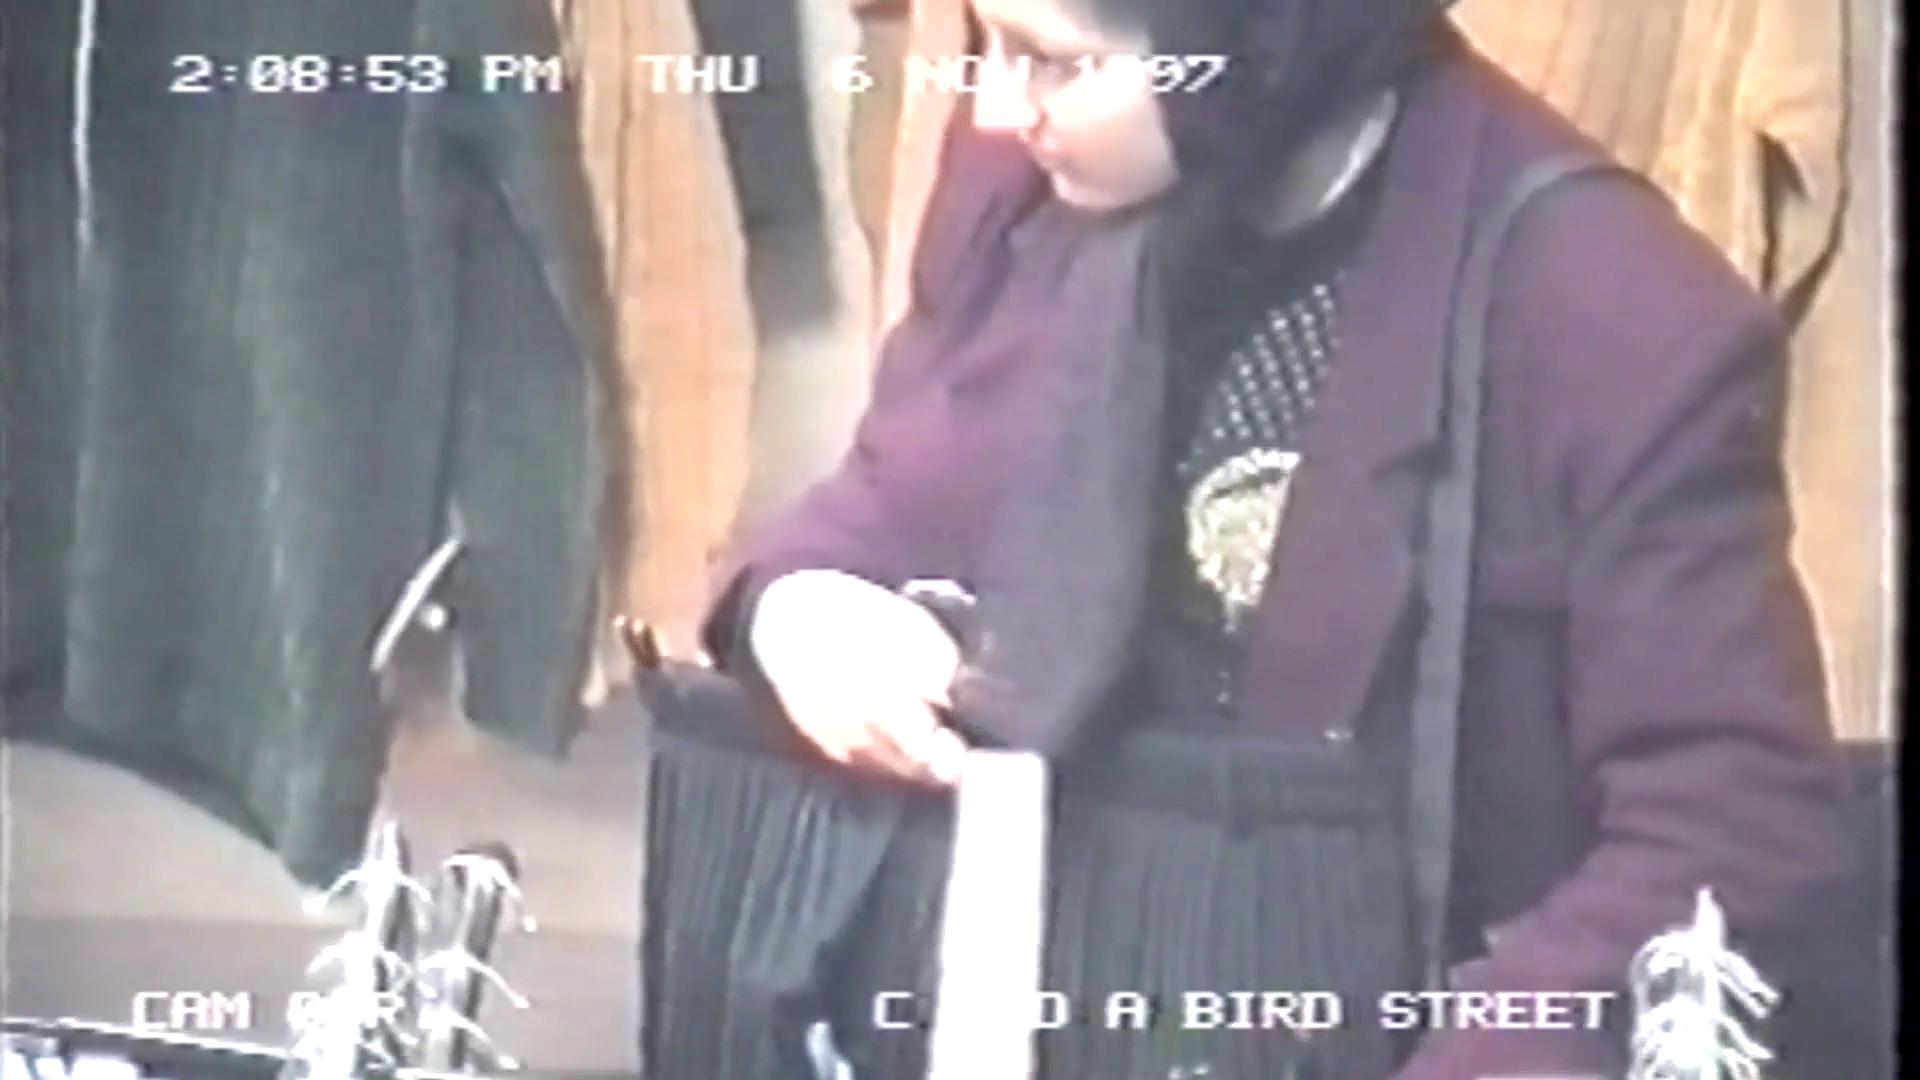Product: (628, 736, 1335, 1073)
Product-Picked: (608, 0, 1908, 1080)
